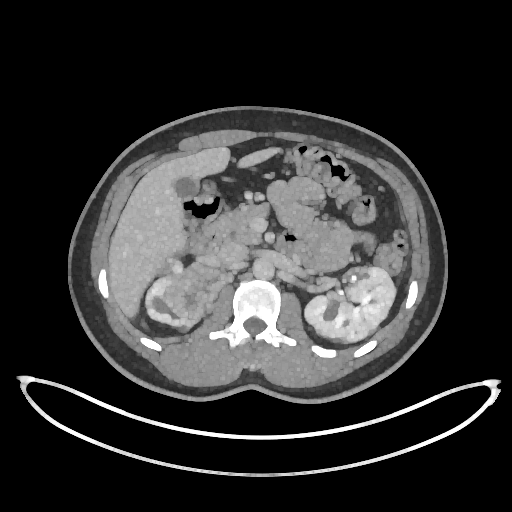Lesion: (321, 296, 343, 323)
